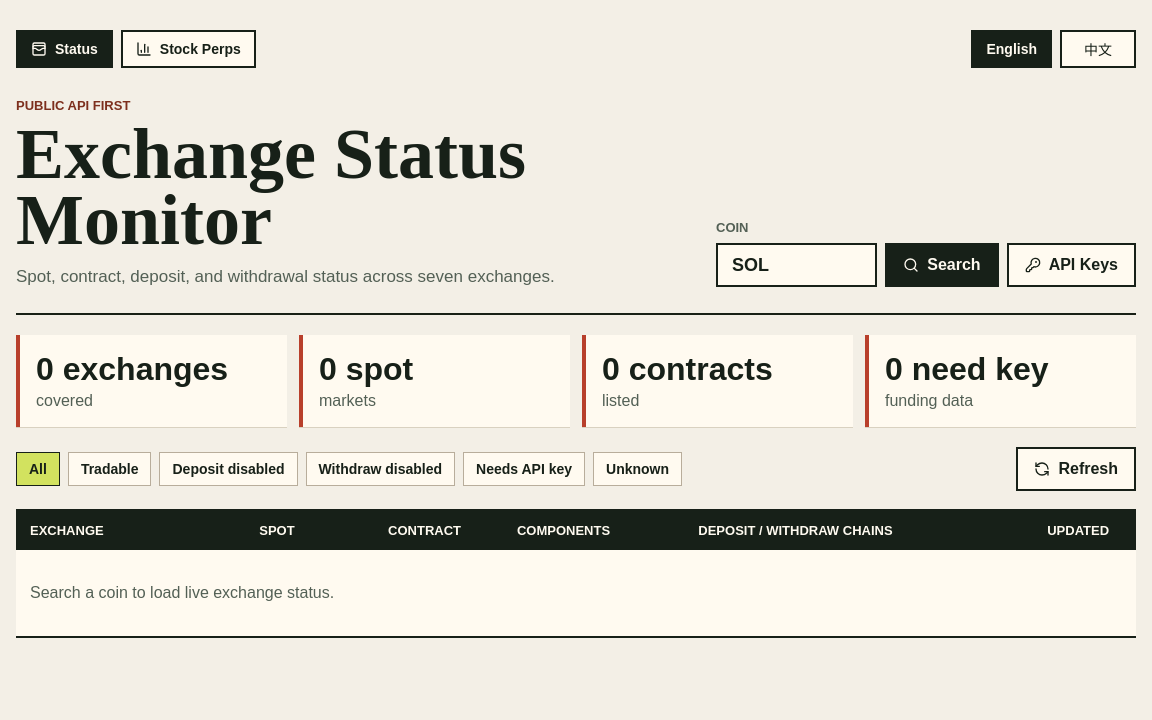
Test: App › normalizes composite price quotes before building trading links
Click the button "Search".
click(942, 266)  # box x1=885 y1=244 x2=999 y2=288
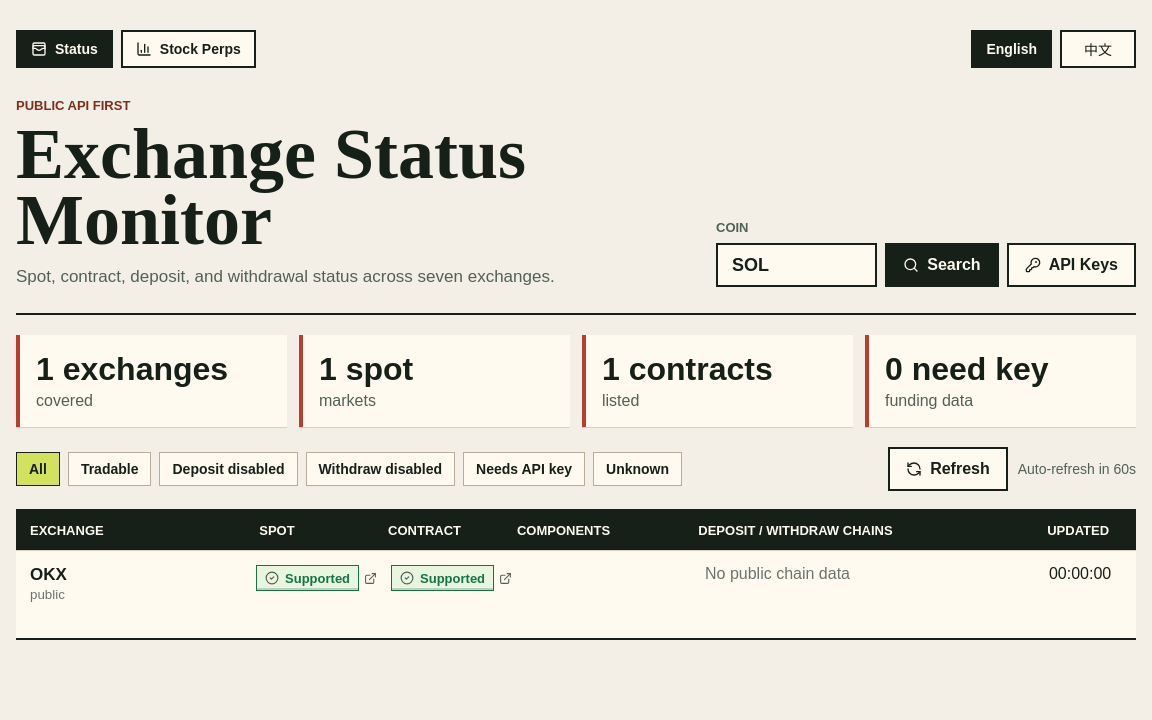
Result: the text "OKX" is shown at x1=30 y1=566 x2=67 y2=584
